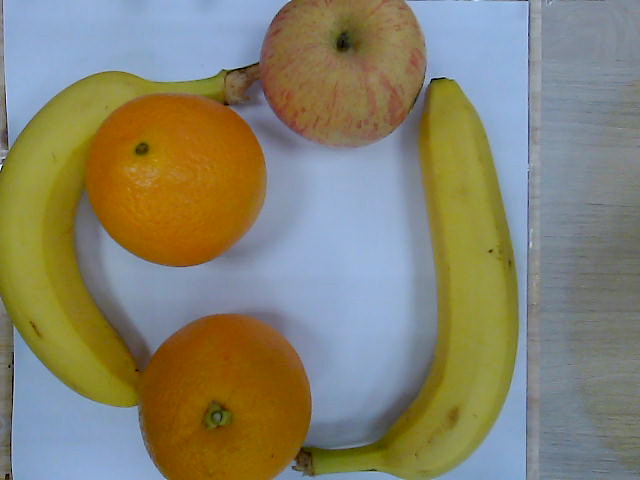fresh_apple: (257, 1, 427, 149)
fresh_banana: (373, 78, 522, 480), (1, 68, 149, 408)
fresh_orange: (83, 95, 268, 267), (141, 315, 311, 480)
